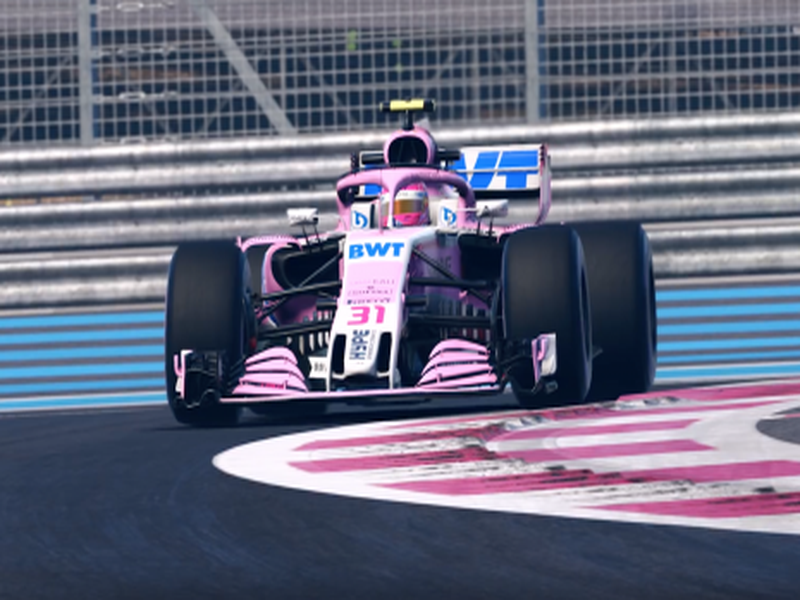f1: (163, 99, 666, 416)
